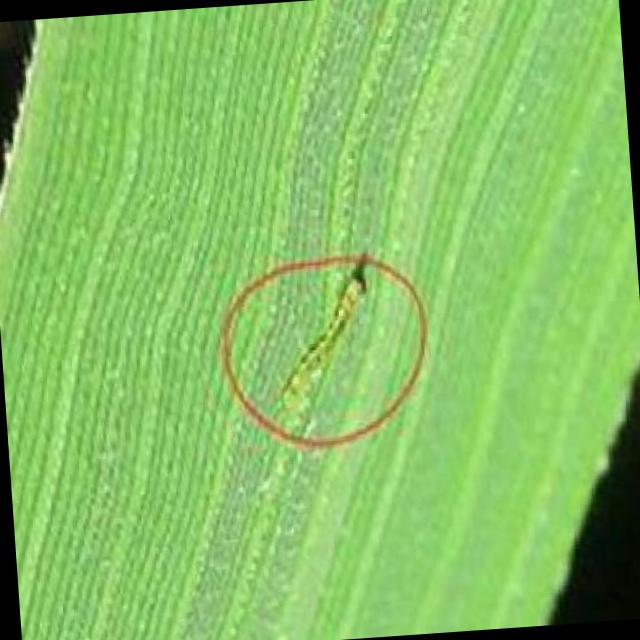leaf-folder: (256, 233, 387, 424)
